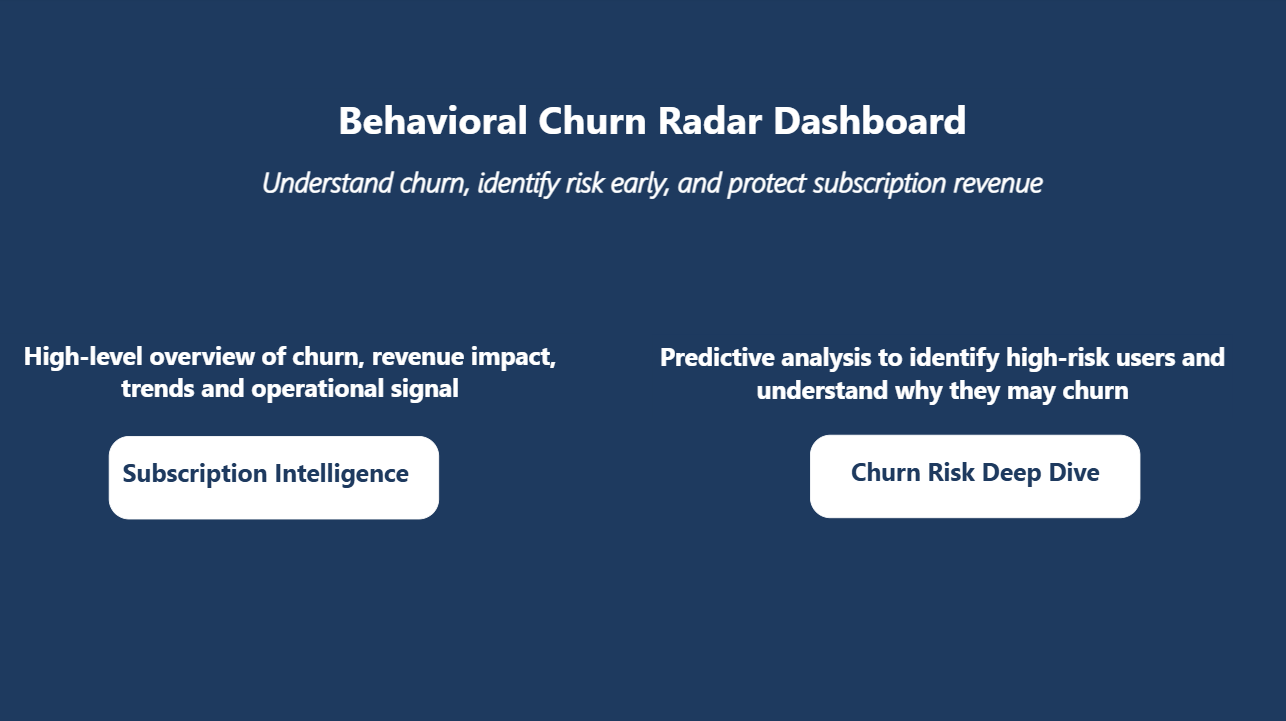

This screenshot's page, from the dashboard's own definition file:
{"tool":"powerbi","page":{"name":"Behavioral Churn Radar","canvas":[1280,720],"ordinal":0},"visuals":[{"type":"textbox","box":[200.5,90.5,895.1,157.7],"z":0},{"type":"actionButton","title":"S","box":[802.2,429.2,322.8,81.9],"z":0,"group":"g2"},{"type":"actionButton","title":"S","box":[116.2,430.4,322.8,81.9],"z":0,"group":"g1"},{"type":"group","id":"g1","title":"Group 1","box":[116.2,430.4,322.8,81.9],"z":1000},{"type":"textbox","box":[810.8,443.9,304.5,53.8],"z":1000,"group":"g2"},{"type":"textbox","box":[124.8,445.1,304.5,53.8],"z":1000,"group":"g1"},{"type":"group","id":"g2","title":"Group 1","box":[802.2,429.2,322.8,81.9],"z":2000},{"type":"textbox","box":[9.8,330.2,567.4,81.9],"z":3000},{"type":"textbox","box":[648.1,331.4,567.4,81.9],"z":4000}]}

Visuals, with their boxes in screenshot pixels (x1, y1, x2, y2), scaled from the page's 1280x720 canvas onto the 1286x721 screenshot:
textbox: box(201, 91, 1101, 249)
"S" actionButton: box(806, 430, 1130, 512)
"S" actionButton: box(117, 431, 441, 513)
"Group 1" group: box(117, 431, 441, 513)
textbox: box(815, 445, 1121, 498)
textbox: box(125, 446, 431, 500)
"Group 1" group: box(806, 430, 1130, 512)
textbox: box(10, 331, 580, 413)
textbox: box(651, 332, 1221, 414)
